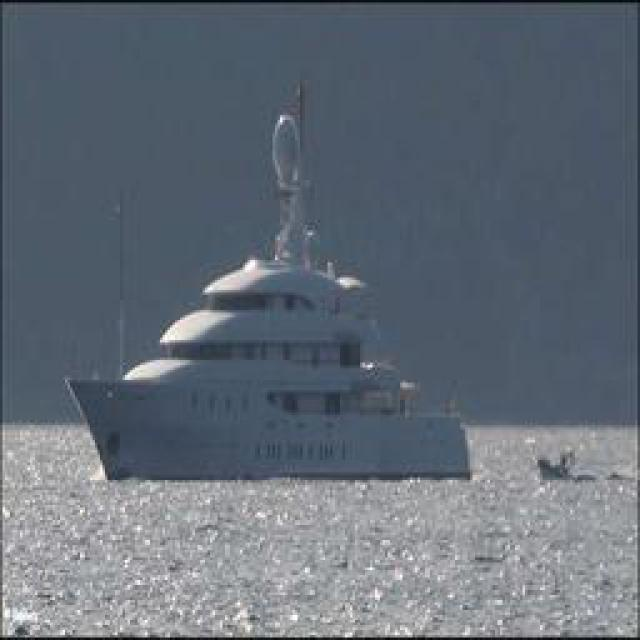Ship: (72, 82, 470, 480)
